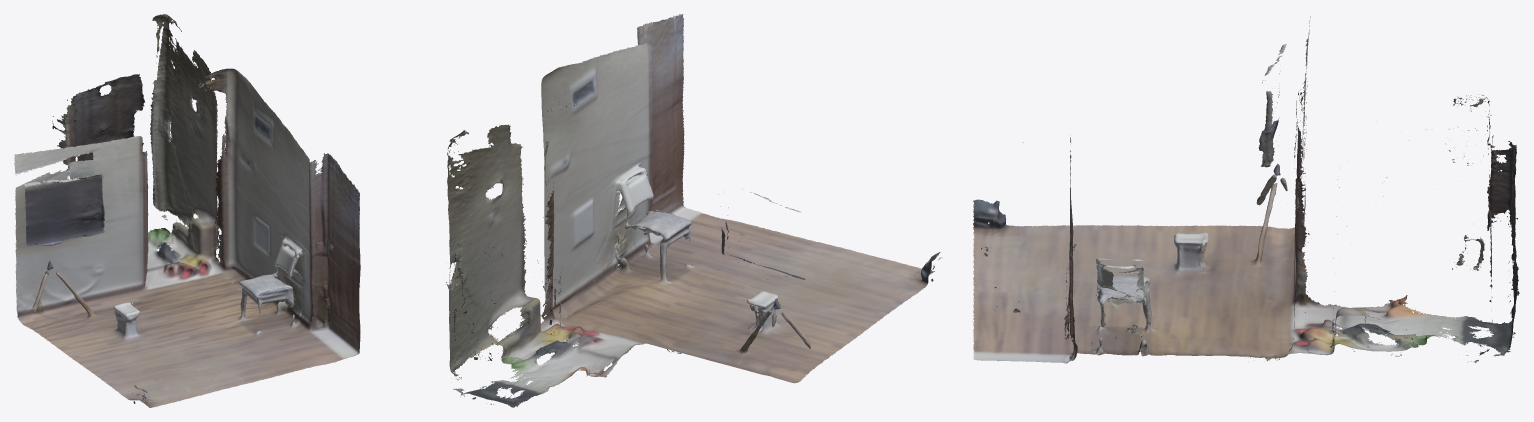
The model's file is apartment-detail-7-1b0ecc544bc0.glb.
3 renders of one model, left to right at view 1: azimuth 30°, elevation 25°; view 2: azimuth 150°, elevation 25°; view 3: azimuth 270°, elevation 25°, orthographic. The views are drawn at different scales.
Size of the model in its own units: 3.51 by 2.73 by 4.64.
